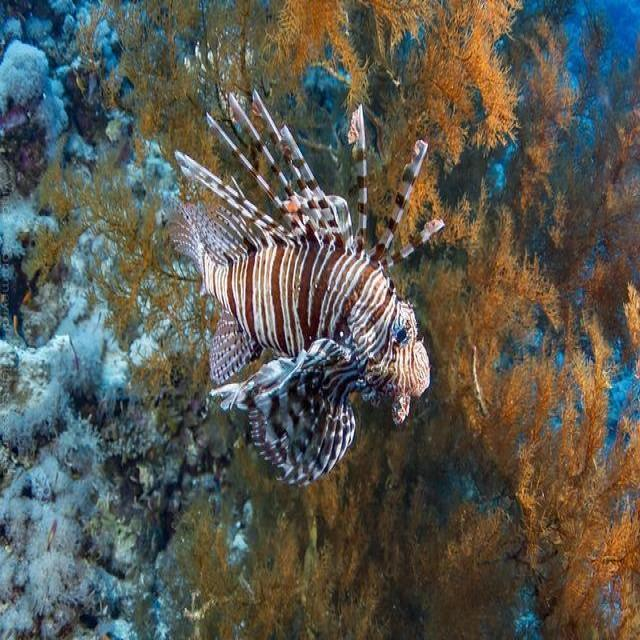fish: (167, 88, 448, 490)
